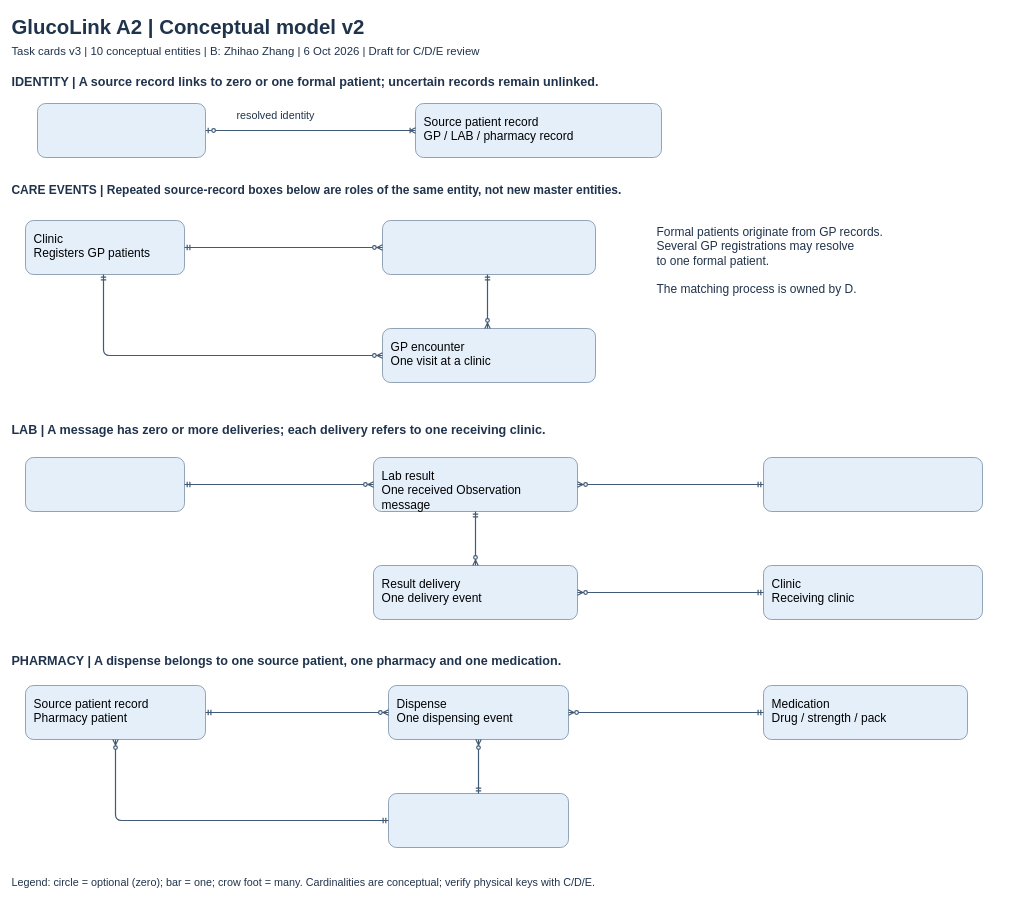
Image size: 1031x901. Some labels were removed from this diagram. The shapes that lost their labels are listed below. From the top down, each one's centre as x and y in pixels, then its label:
At (121,130): "Patient Formal GlucoLink patient".
At (489,247): "Source patient record GP registration".
At (104,484): "Laboratory Sends results".
At (872,484): "Source patient record LAB patient record".
At (478,820): "Pharmacy Dispensing location".
